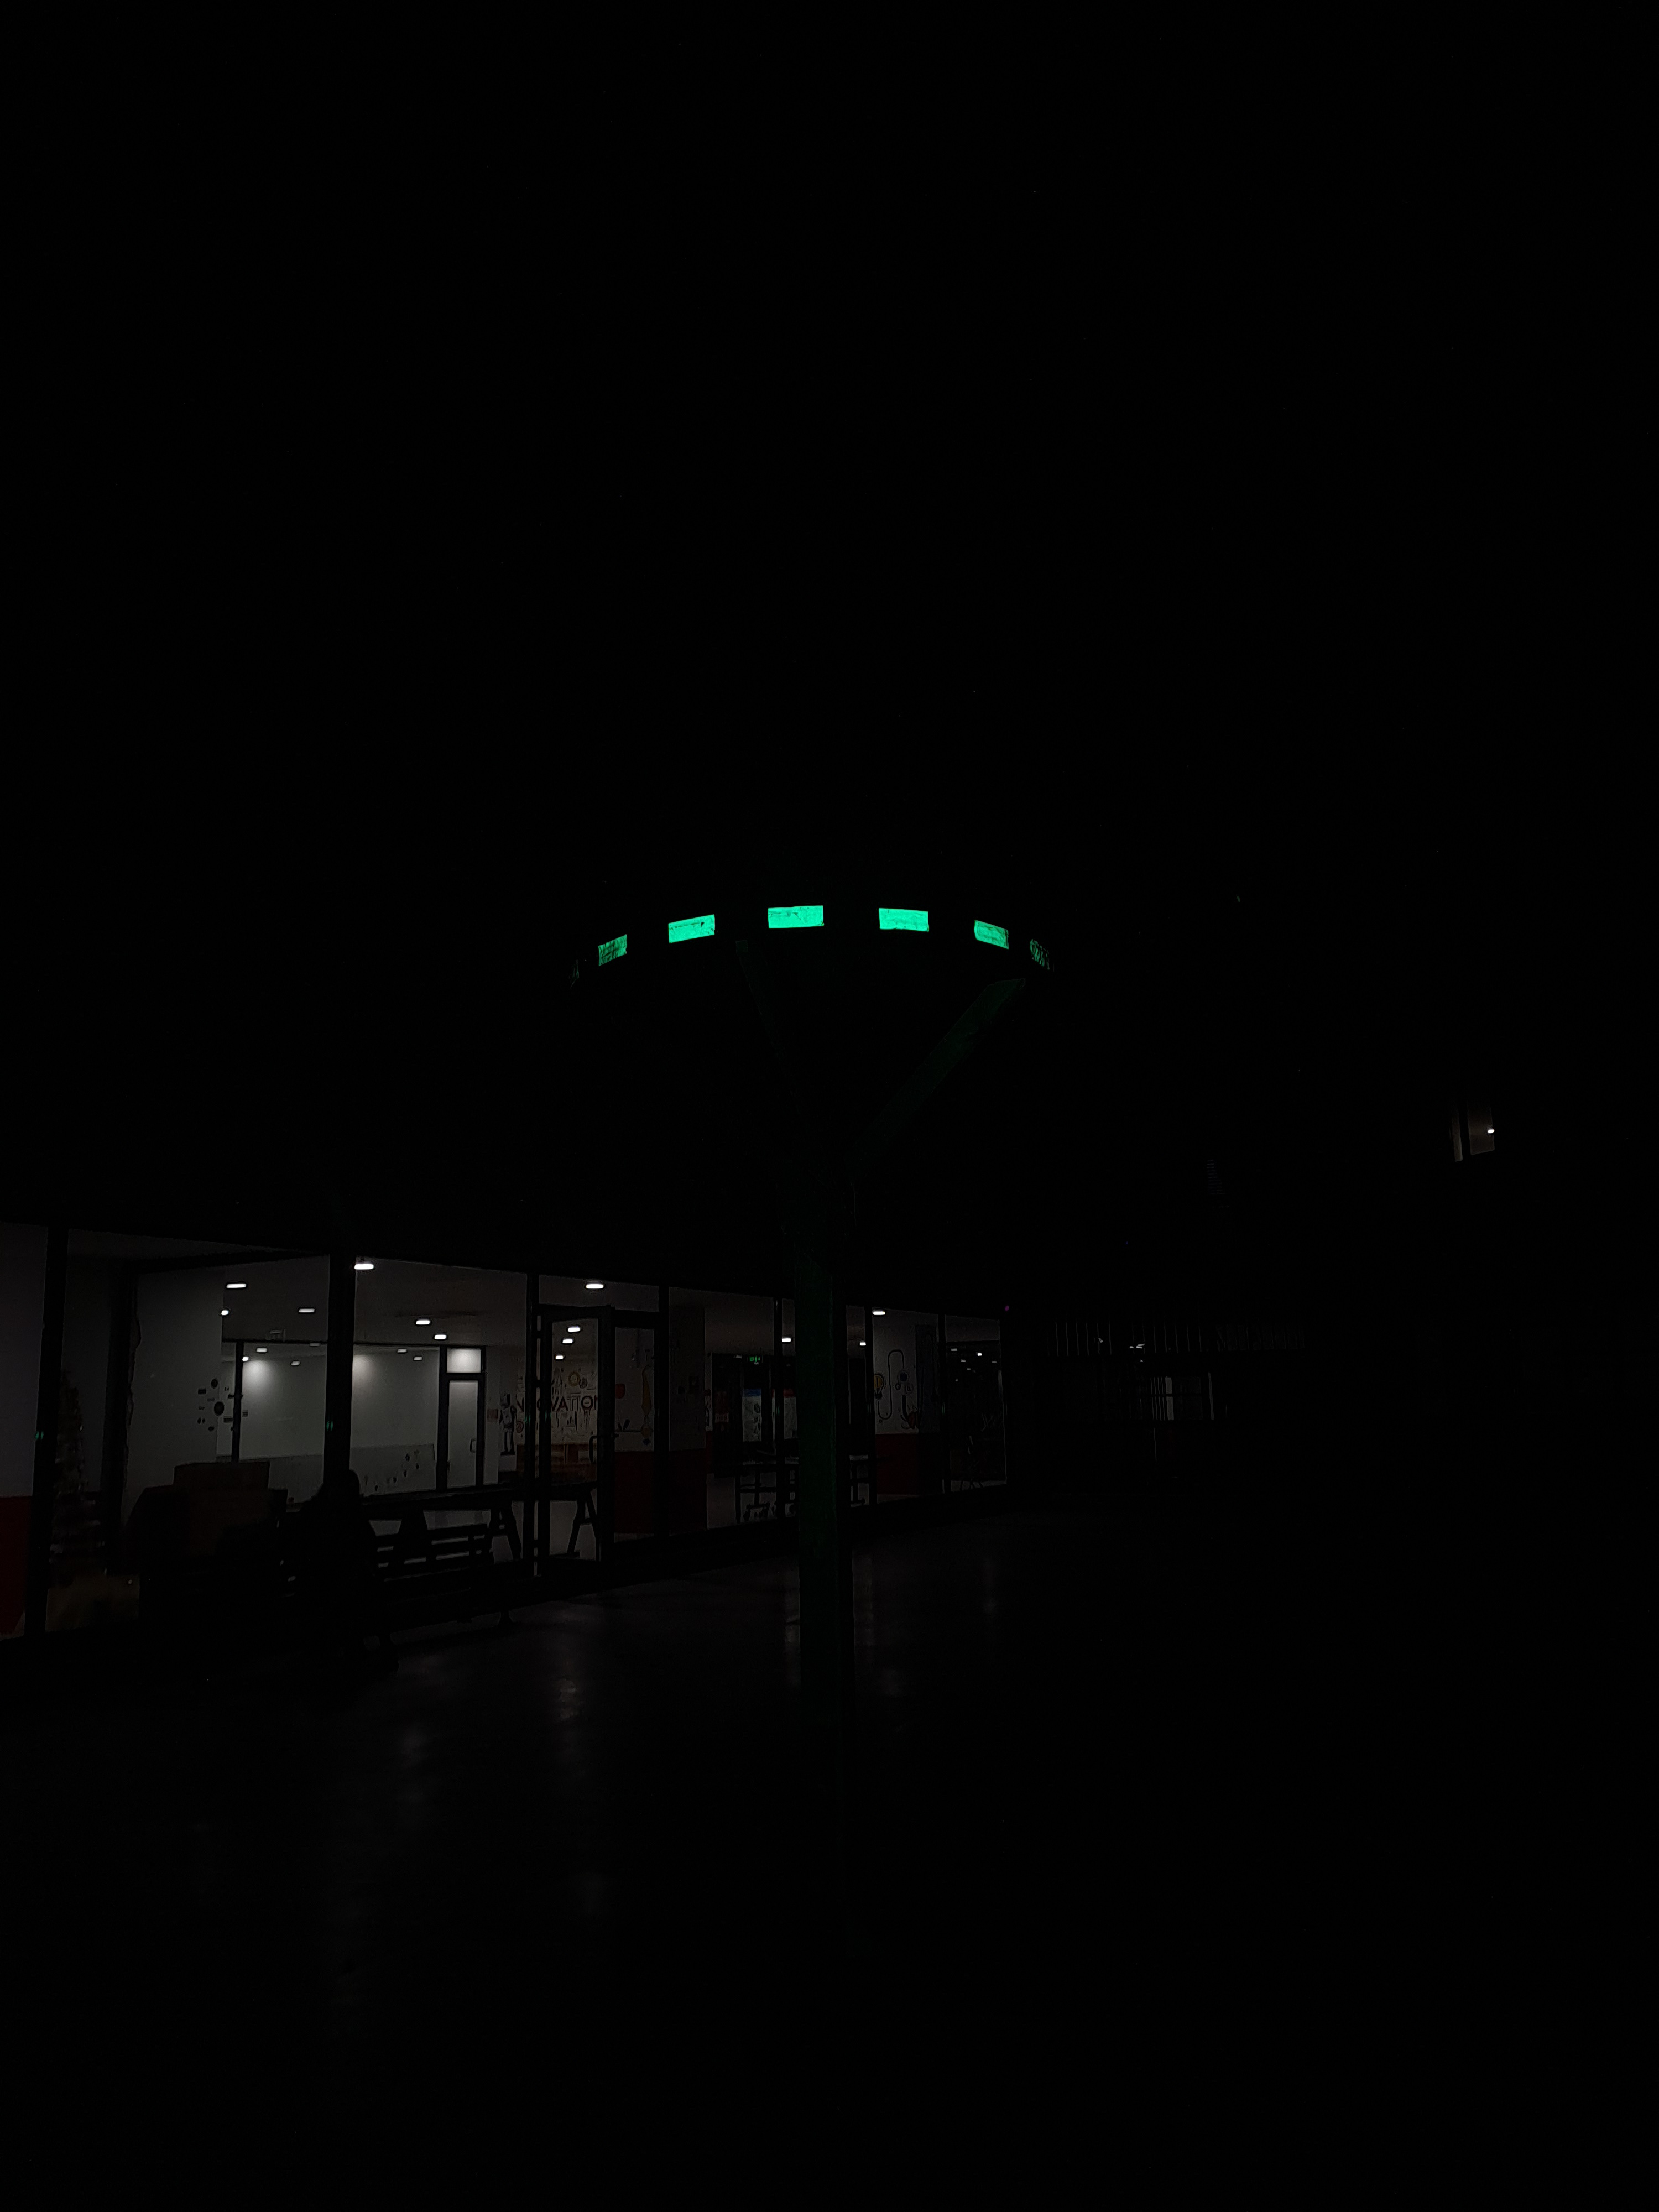hoop: (591, 900, 1053, 984)
